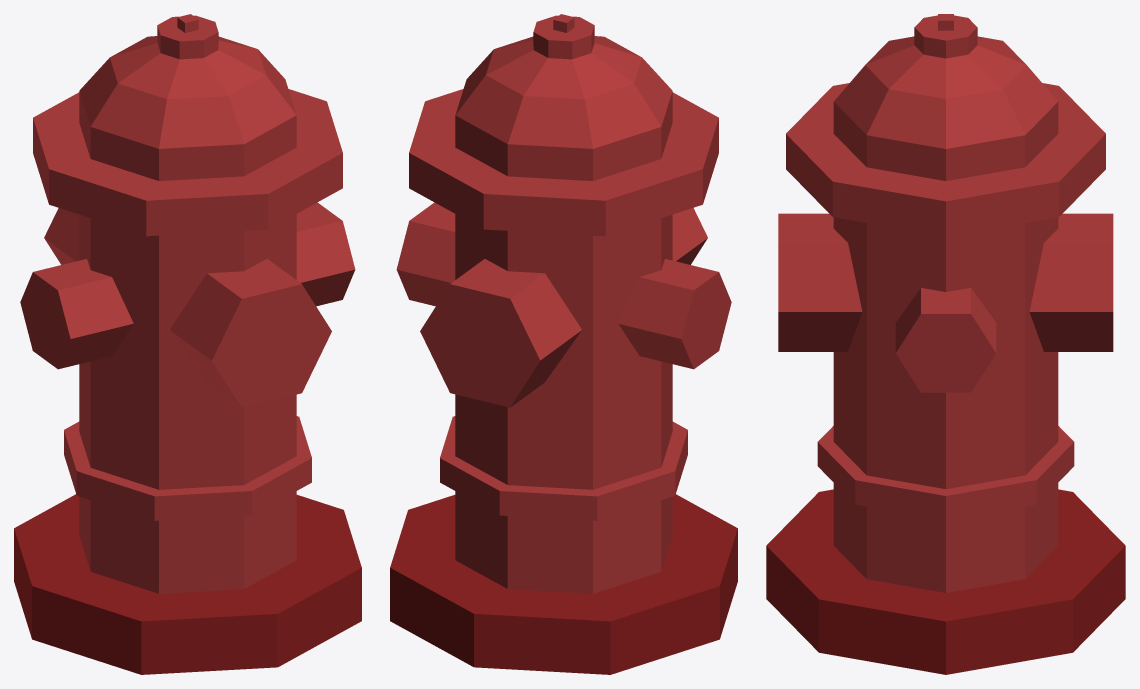
The model's file is Hydrant.fbx.
3 renders of one model, left to right at view 1: azimuth 30°, elevation 25°; view 2: azimuth 150°, elevation 25°; view 3: azimuth 270°, elevation 25°, orthographic.
Visible parts, largest first — view 1: Hydrant; view 2: Hydrant; view 3: Hydrant.
Boxes of the visible parts, x1,y1,x2,y2 form: Hydrant: [14, 14, 361, 674]; Hydrant: [390, 14, 737, 674]; Hydrant: [766, 14, 1125, 674].
Bounding box in the file's own units: 65.59 × 117 × 65.59.
